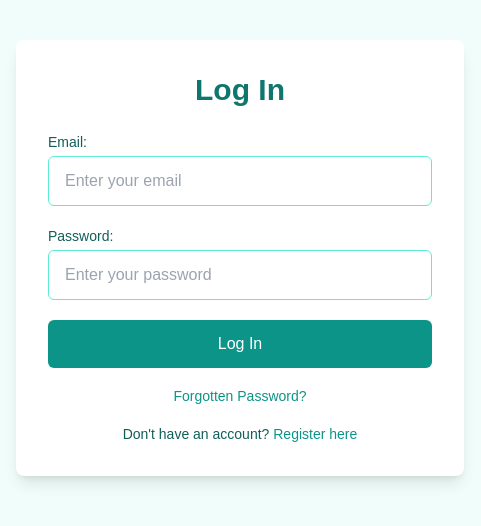
Test: login_page_test › should not log in with empty credentials
This screenshot has width=481, height=526.
Click the submit button: click(240, 344) [48, 320, 432, 368]
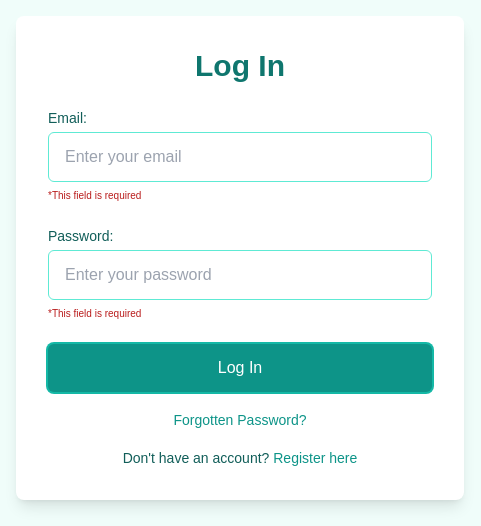
Result: the text with class "empty_error" below "Email:" is shown at [48, 188, 141, 203]
Result: the number of elements with class "empty_error" is 2 at [48, 188, 141, 203]; [48, 306, 141, 321]
